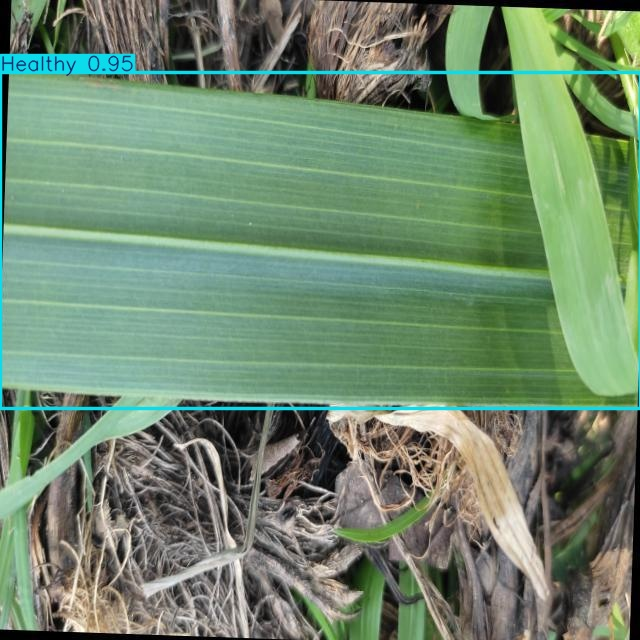Healthy: (1, 72, 640, 409)
